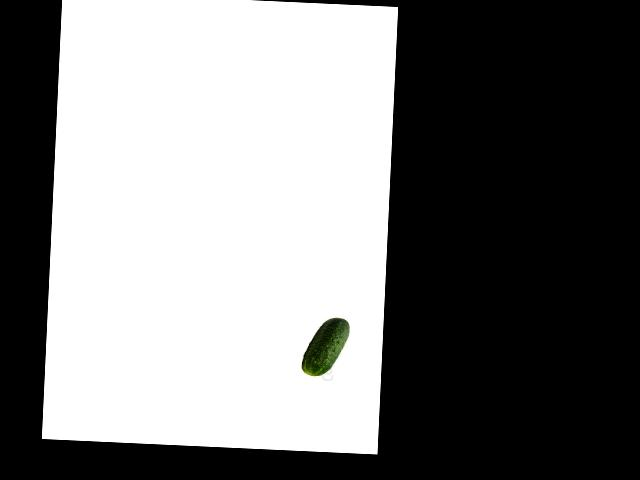cucumber: (301, 315, 350, 377)
